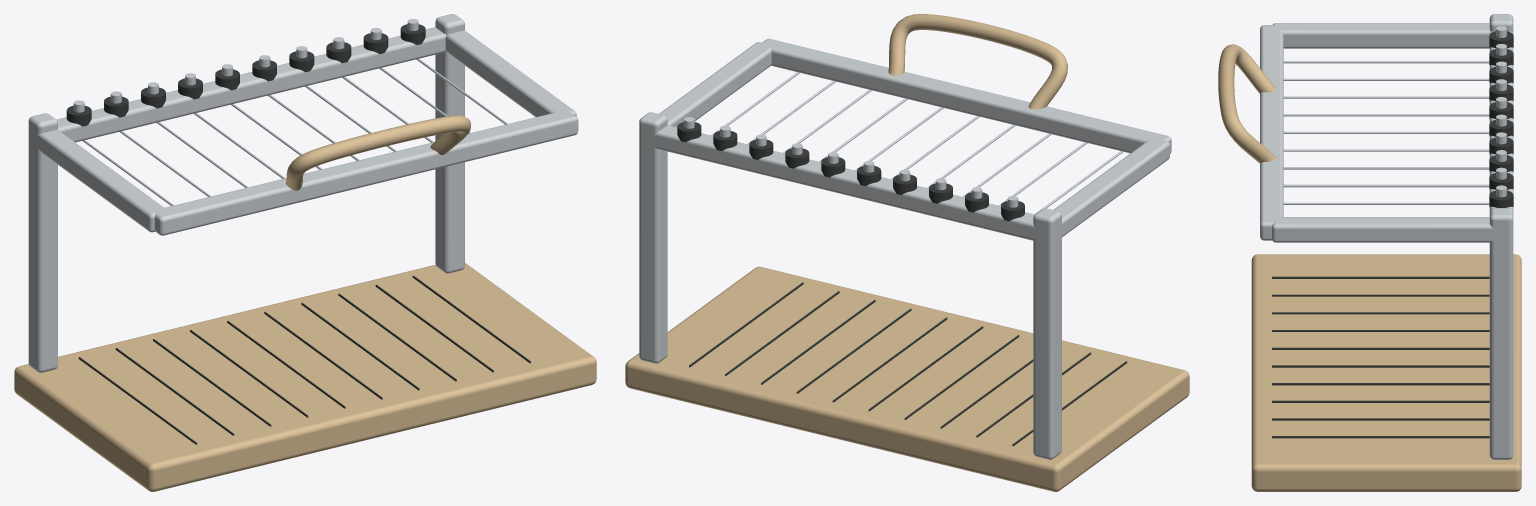
The model's file is candlemaking-and-soap-workshop-soap-cutting-frame-913adb0d__30678.glb.
3 renders of one model, left to right at view 1: azimuth 30°, elevation 25°; view 2: azimuth 150°, elevation 25°; view 3: azimuth 270°, elevation 25°, orthographic. The views are drawn at different scales.
Visible parts, largest first — view 1: soap-cutting-frame; view 2: soap-cutting-frame; view 3: soap-cutting-frame.
Boxes of the visible parts, <box> form: soap-cutting-frame: <box>14,14,596,491</box>; soap-cutting-frame: <box>625,14,1189,491</box>; soap-cutting-frame: <box>1218,14,1521,491</box>.
Size of the model in its own units: 0.75 by 0.5107 by 0.4495.
